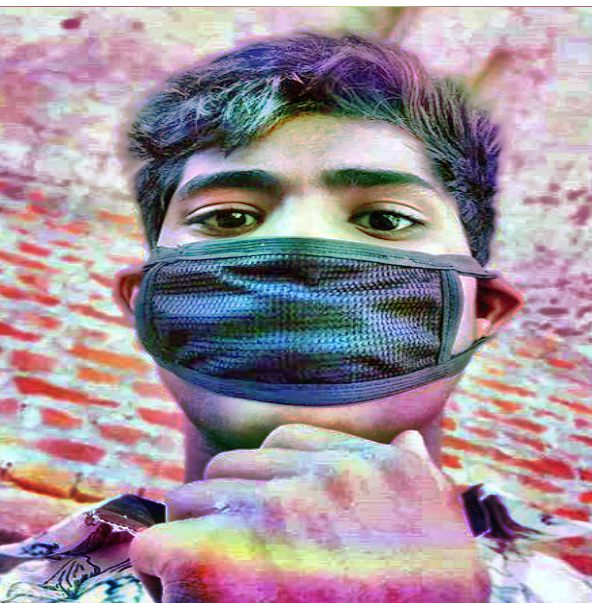mask_weared_incorrect: (112, 34, 515, 457)
